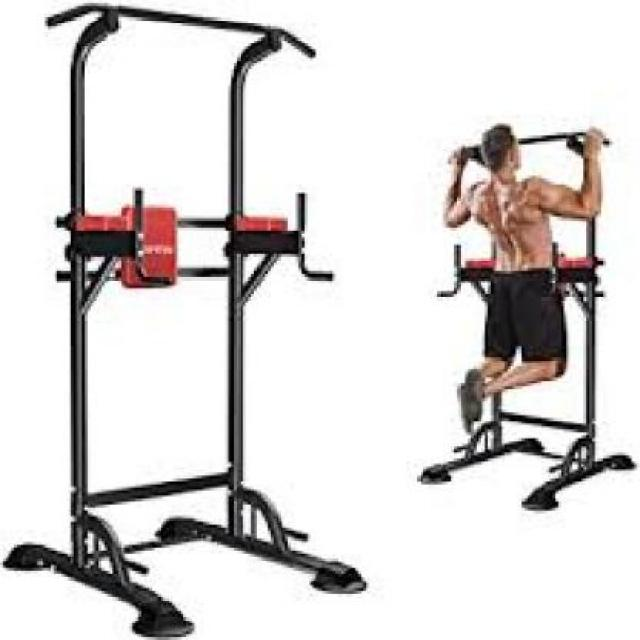chinning dipping: (5, 3, 369, 632)
